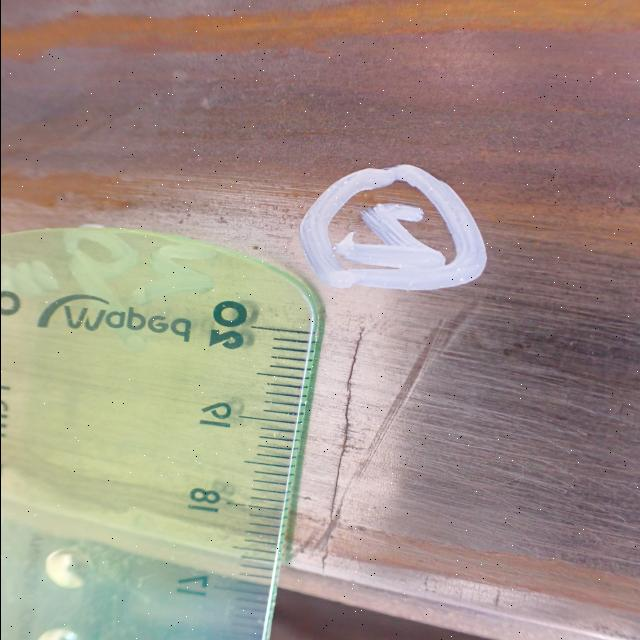hot crack: (307, 318, 377, 578)
